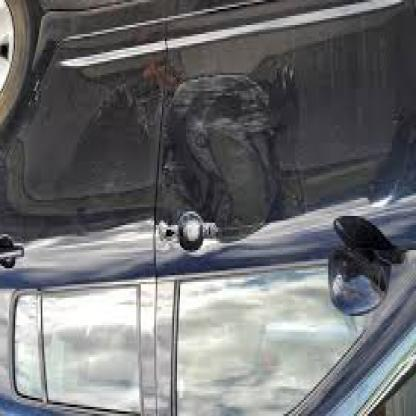dent: (164, 73, 290, 236), (82, 70, 156, 136)
